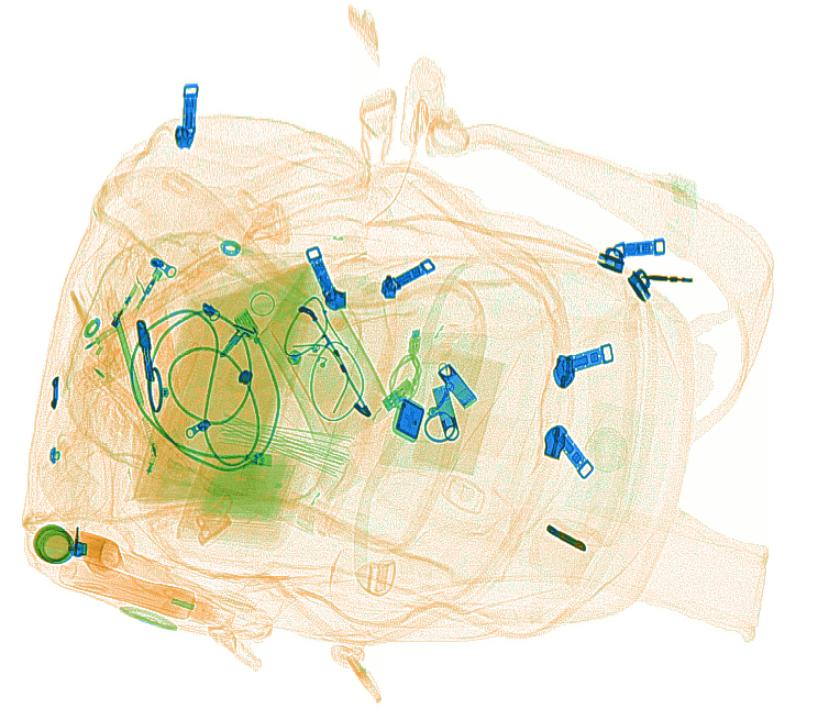lighter: (89, 246, 167, 367)
